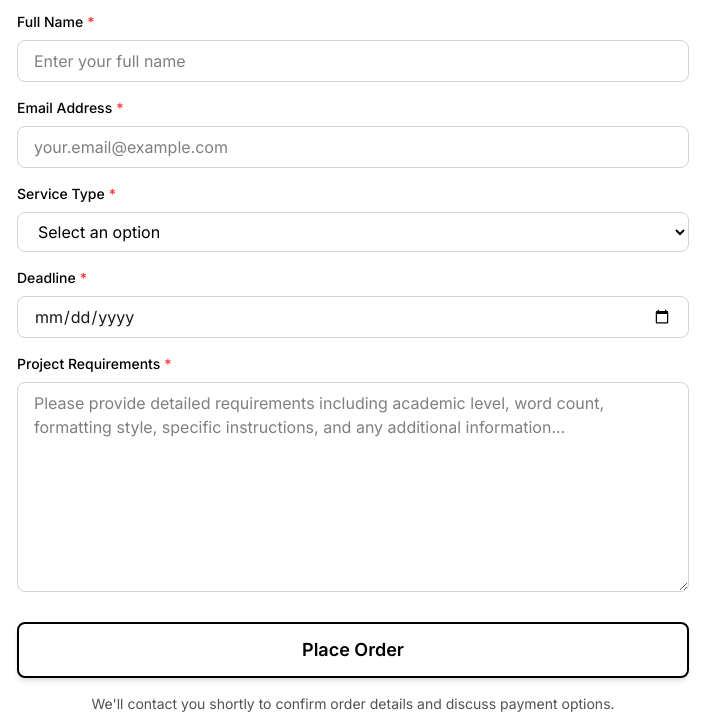
it: OrderForm Component › clears error when user corrects input
The width and height of the screenshot is (707, 719).
// Submit with empty name to trigger error
Click the button "Place Order": click(353, 650) [17,622,689,678]
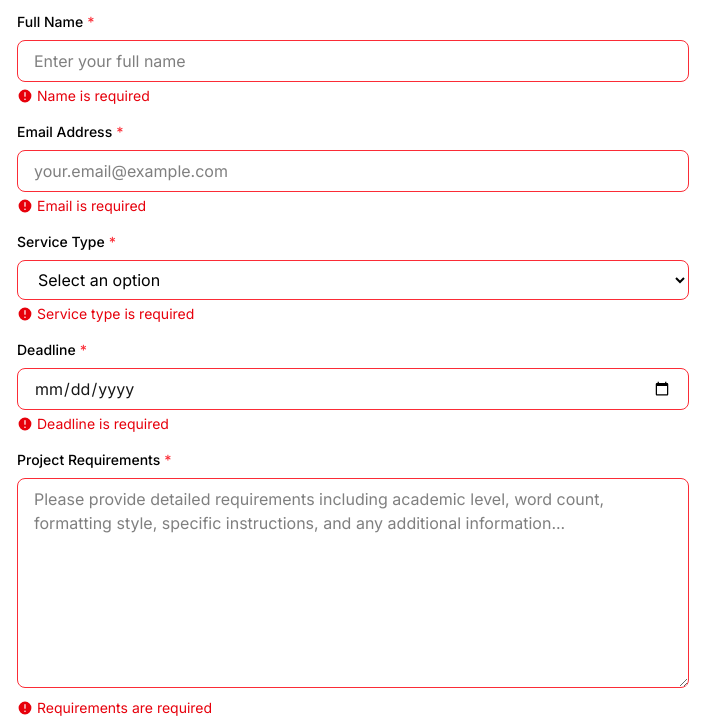
Expected: the text "Name is required" is shown, [17,87,150,104]
// Type in name field
In the field labelled "Full Name*": (353, 61) [17,40,689,82], type "John Doe"
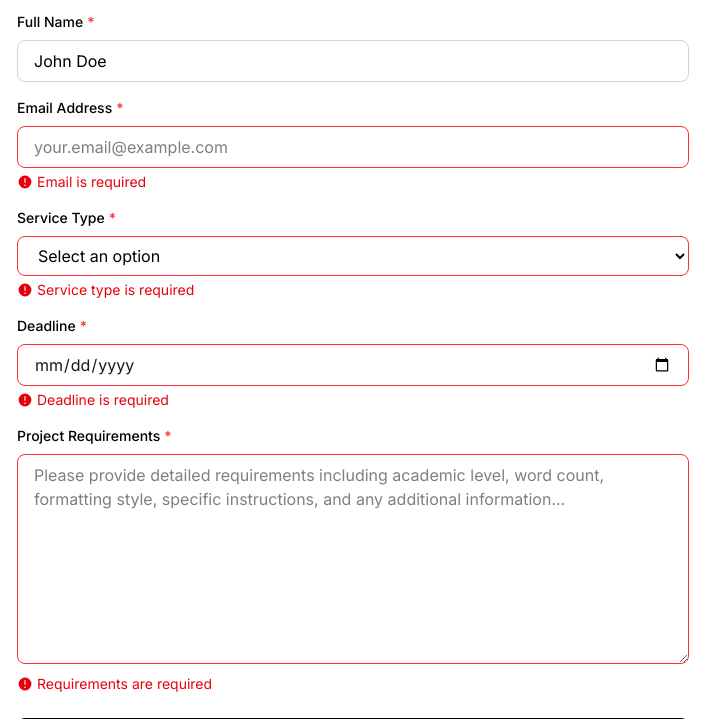
Expected: the text "Name is required" is gone
